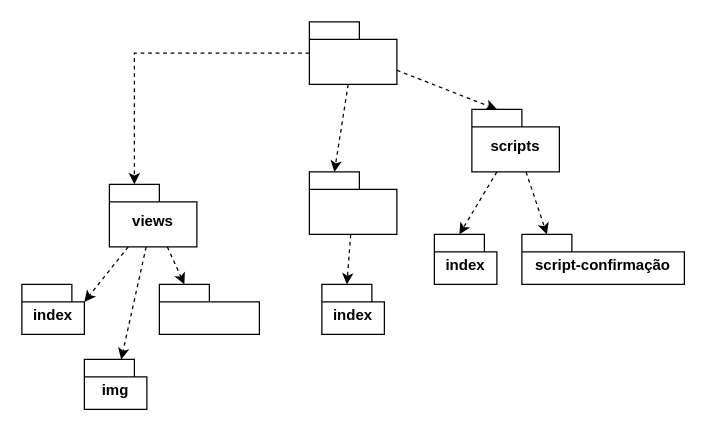
The diagram is 706 pixels wide and 431 high, and some of its shapes have lost their labels. The shapes that lost their labels are listed below. From the top down, each one's box as (x1, y1, x2, y2) in pixels, then its label:
(308, 21, 397, 84): UI (user interface
(308, 171, 397, 234): css
(158, 283, 259, 334): confirmação
